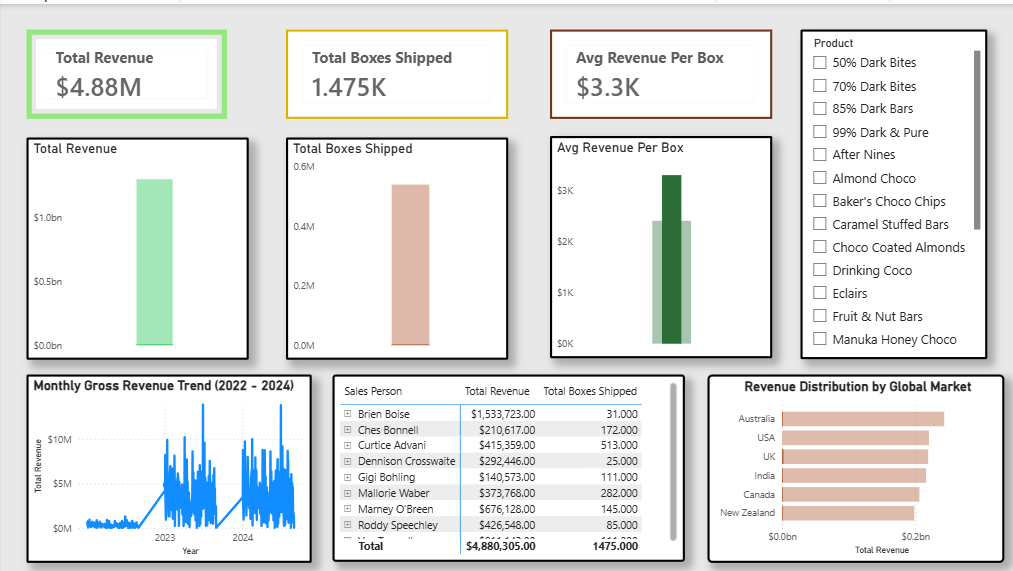

What the dashboard file says about the page in this screenshot:
{"tool":"powerbi","page":{"name":"Page 1","canvas":[1280,720],"ordinal":0},"visuals":[{"type":"clusteredColumnChart","fields":{"Y":["Cleaned_Chocolate_Sales.Total Revenue"]},"box":[31.8,168.6,279.9,279.9],"z":0},{"type":"clusteredColumnChart","fields":{"Y":["Cleaned_Chocolate_Sales.Total Boxes Shipped"]},"box":[359.5,168.6,279.9,279.9],"z":1000},{"type":"clusteredColumnChart","fields":{"Y":["Cleaned_Chocolate_Sales.Avg Revenue Per Box"]},"box":[691.9,167,279.9,279.9],"z":2000},{"type":"cardVisual","fields":{"Data":["Cleaned_Chocolate_Sales.Total Revenue"]},"box":[31.8,31.8,252.9,112.9],"z":3000},{"type":"cardVisual","fields":{"Data":["Cleaned_Chocolate_Sales.Total Boxes Shipped"]},"box":[359.5,31.8,279.9,112.9],"z":4000},{"type":"cardVisual","fields":{"Data":["Cleaned_Chocolate_Sales.Avg Revenue Per Box"]},"box":[691.9,31.8,279.9,112.9],"z":5000},{"type":"clusteredBarChart","title":"Revenue Distribution by Global Market","fields":{"Category":["Cleaned_Chocolate_Sales.Country"],"Y":["Cleaned_Chocolate_Sales.Total Revenue"]},"box":[889.2,467.6,373.8,237],"z":6000},{"type":"lineChart","title":"Monthly Gross Revenue Trend (2022 - 2024)","fields":{"Y":["Cleaned_Chocolate_Sales.Total Revenue"],"Category":["Cleaned_Chocolate_Sales.Date.Variation.Date Hierarchy.Year","Cleaned_Chocolate_Sales.Date.Variation.Date Hierarchy.Quarter","Cleaned_Chocolate_Sales.Date.Variation.Date Hierarchy.Month","Cleaned_Chocolate_Sales.Date.Variation.Date Hierarchy.Day"]},"box":[31.8,467.6,359.5,237],"z":7000},{"type":"pivotTable","fields":{"Rows":["Cleaned_Chocolate_Sales.Sales Person","Cleaned_Chocolate_Sales.Product"],"Values":["Cleaned_Chocolate_Sales.Total Revenue","Cleaned_Chocolate_Sales.Total Boxes Shipped"]},"box":[417.6,466.8,444.1,236.2],"z":8000},{"type":"slicer","fields":{"Values":["Cleaned_Chocolate_Sales.Product"]},"box":[1006.9,31.8,235.4,415.1],"z":9000}]}

Visuals, with their boxes in screenshot pixels (x1, y1, x2, y2), scaled from the page's 1280x720 canvas onto the 1013x571 screenshot:
clusteredColumnChart - Cleaned_Chocolate_Sales.Total Revenue: box(25, 134, 247, 356)
clusteredColumnChart - Cleaned_Chocolate_Sales.Total Boxes Shipped: box(285, 134, 506, 356)
clusteredColumnChart - Cleaned_Chocolate_Sales.Avg Revenue Per Box: box(548, 132, 769, 354)
cardVisual - Cleaned_Chocolate_Sales.Total Revenue: box(25, 25, 225, 115)
cardVisual - Cleaned_Chocolate_Sales.Total Boxes Shipped: box(285, 25, 506, 115)
cardVisual - Cleaned_Chocolate_Sales.Avg Revenue Per Box: box(548, 25, 769, 115)
"Revenue Distribution by Global Market" clusteredBarChart: box(704, 371, 1000, 559)
"Monthly Gross Revenue Trend (2022 - 2024)" lineChart: box(25, 371, 310, 559)
pivotTable - Cleaned_Chocolate_Sales.Sales Person x Cleaned_Chocolate_Sales.Product: box(330, 370, 682, 558)
slicer - Cleaned_Chocolate_Sales.Product: box(797, 25, 983, 354)
